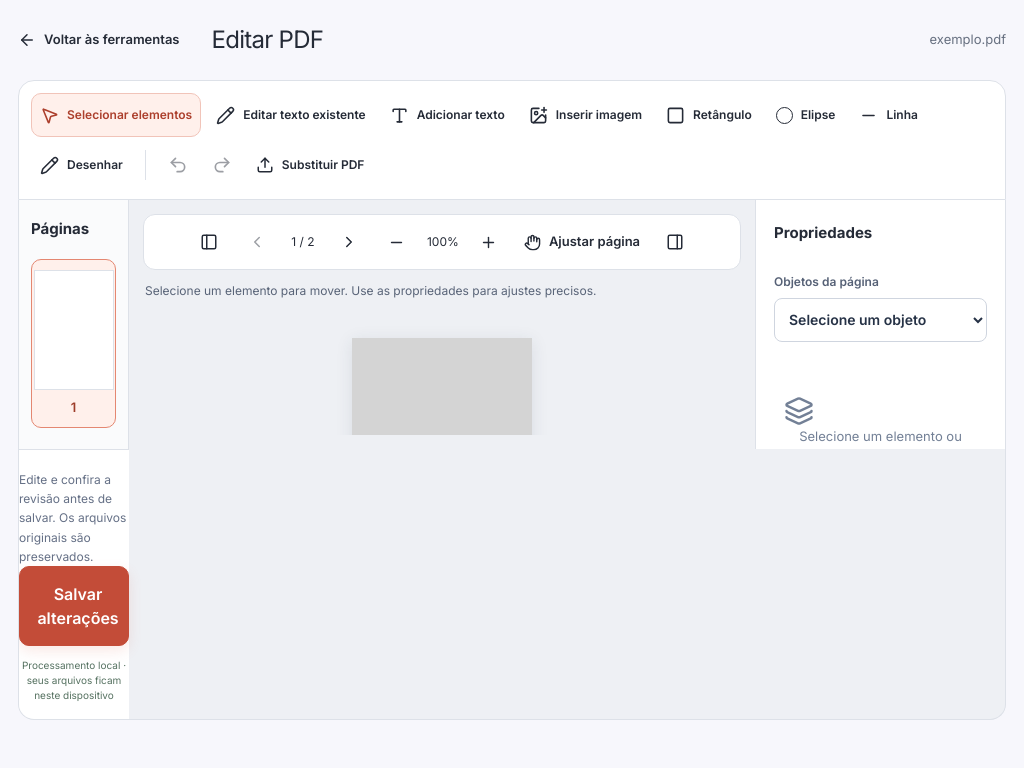
Test case: resposta atrasada de prévia cancelada não substitui a navegação mais recente
Click the button named "Próxima página". click: (349, 242)
box: [327, 220, 371, 264]
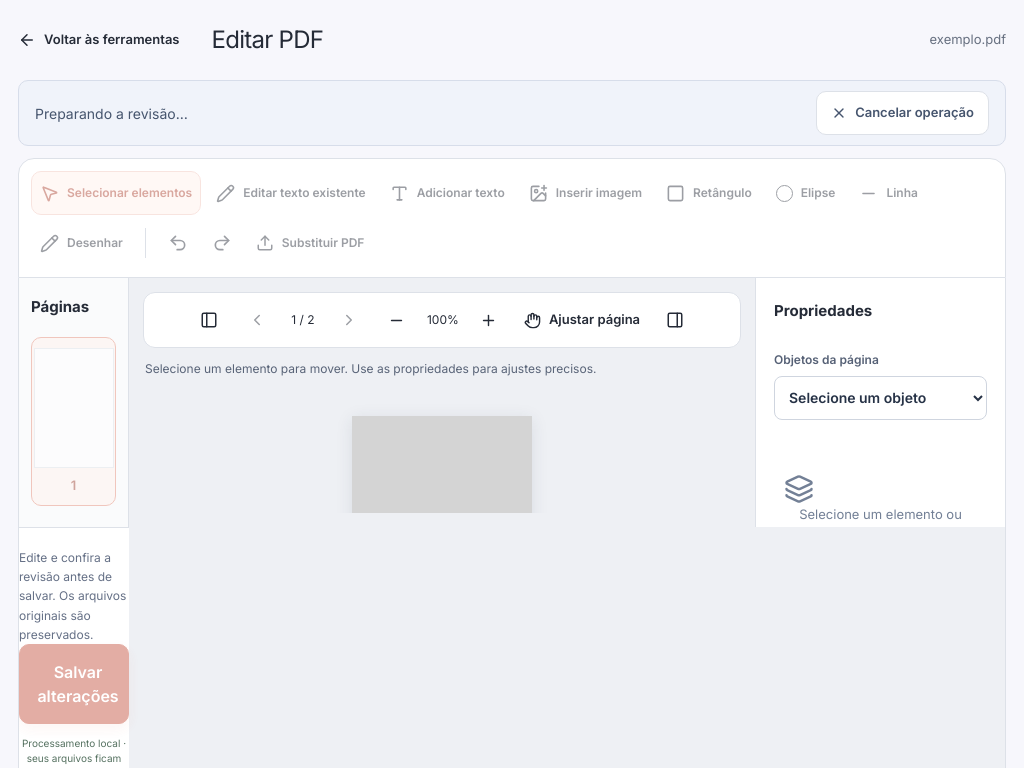
Click the button "Cancelar operação". click: (903, 113)
box: [816, 91, 989, 135]
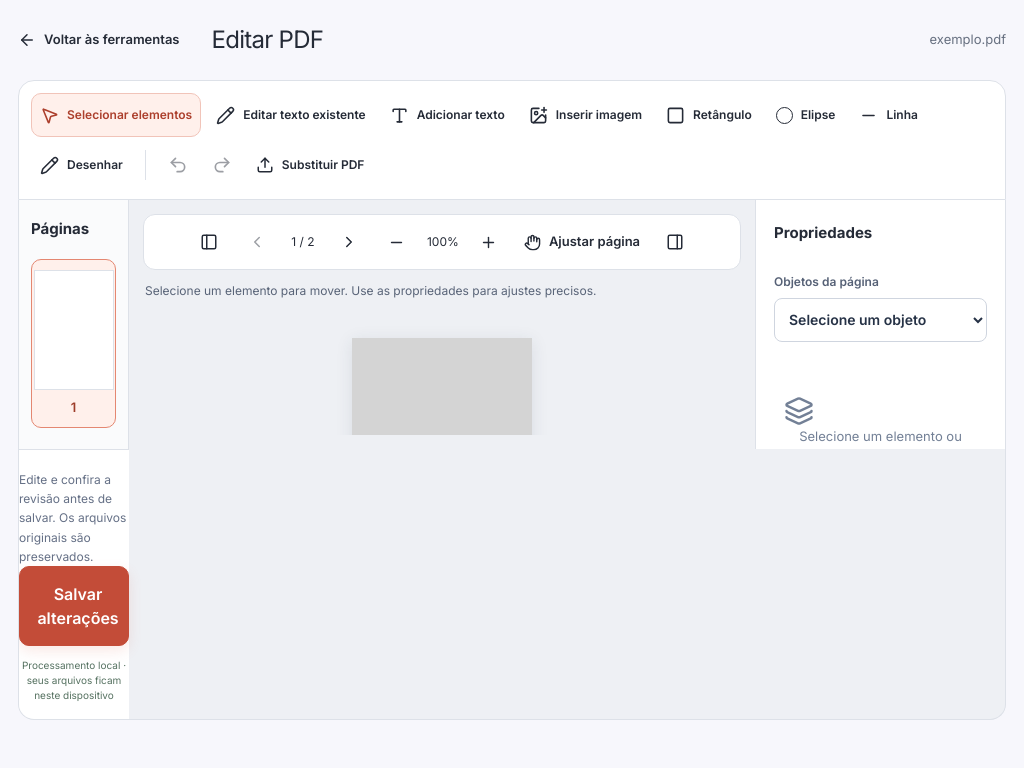
Click the button named "Próxima página". click: (349, 242)
box: [327, 220, 371, 264]
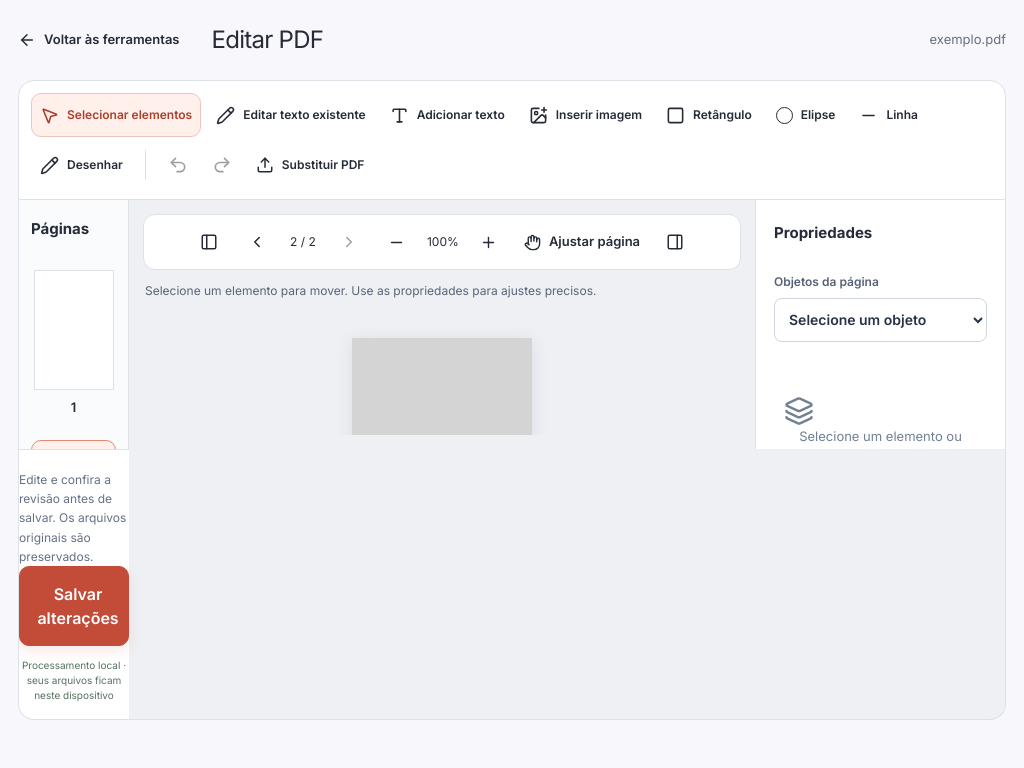
expect the text "2 / 2" is shown: met, box [290, 234, 316, 249]
